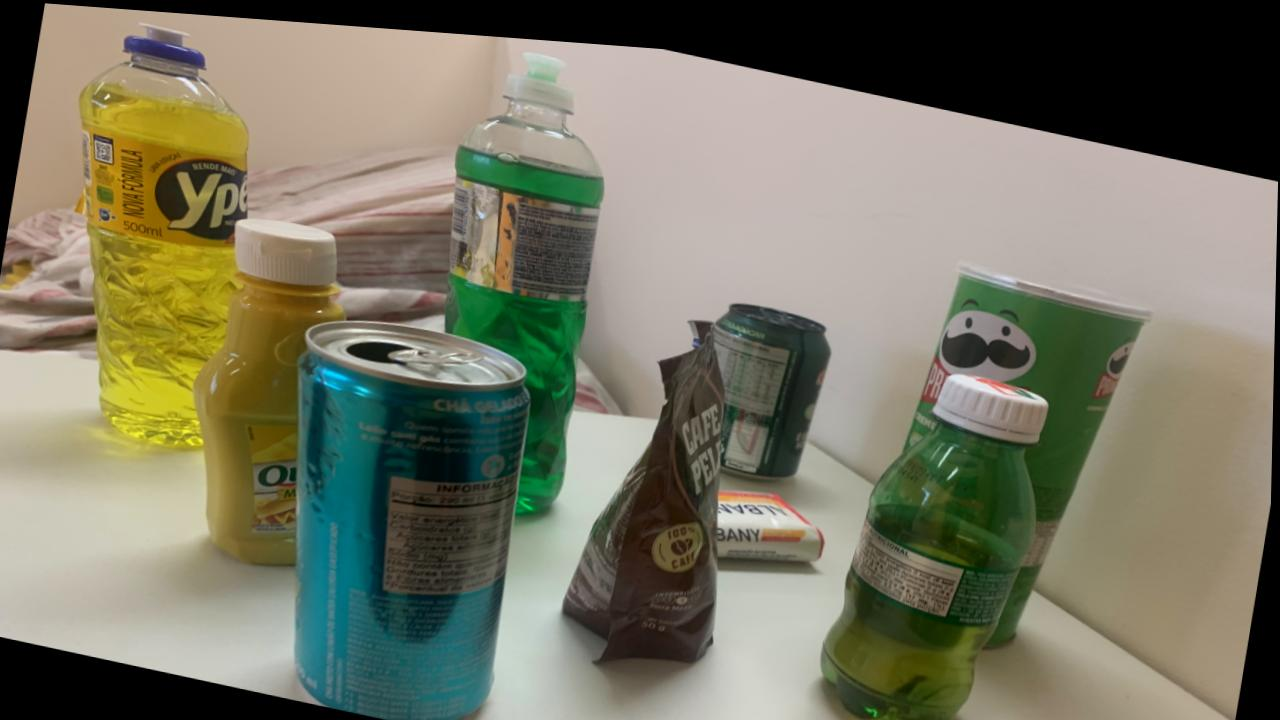Coffee-Pantry_Items: (564, 310, 726, 651)
Detergent-Cleanup_Items: (446, 45, 605, 505), (79, 23, 249, 444)
Guarana-Drinks: (823, 358, 1050, 719)
Guarana_Can-Drinks: (712, 291, 832, 465)
Mustard-Pantry_Items: (194, 214, 347, 560)
Pringles-Snacks: (906, 246, 1152, 629)
Soap-Cleanup_Items: (718, 478, 827, 549)
Tea-Drinks: (296, 315, 532, 718)
